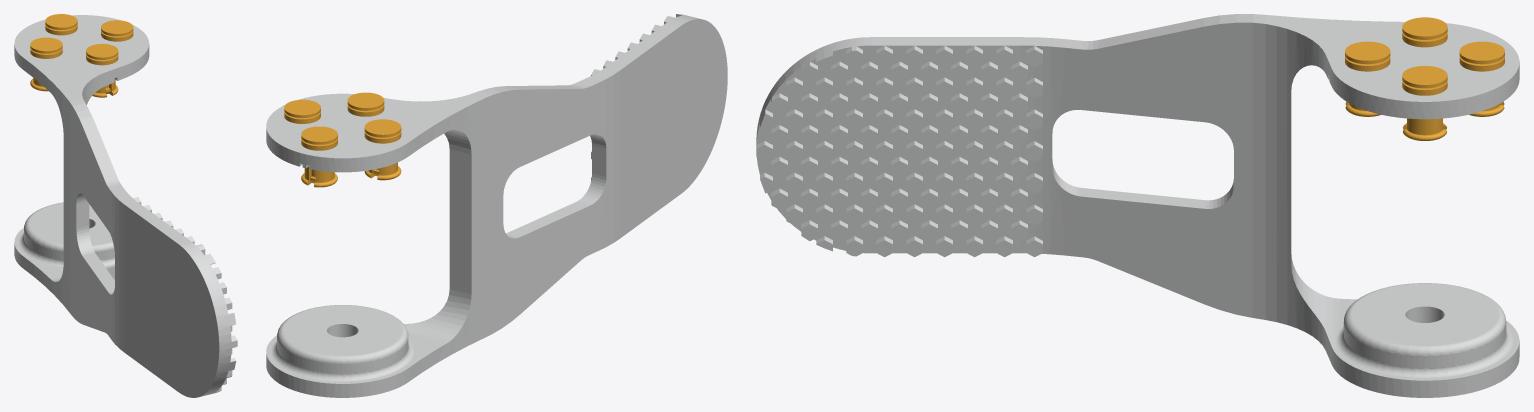
Rendered from gripper.dae.
3 views of the same model, side by side, from view 1: azimuth 30°, elevation 25°; view 2: azimuth 150°, elevation 25°; view 3: azimuth 270°, elevation 25° (orthographic). The views are drawn at different scales.
Parts seen in each view (by area): view 1: rotative_part, insert (×4), base (×2); view 2: rotative_part, insert (×4), base (×2); view 3: rotative_part, insert (×4), base.
Part boxes in pixels (bbox=[...]): rotative_part: bbox=[14, 15, 237, 397]; insert (×4): bbox=[30, 14, 133, 93]; base (×2): bbox=[30, 48, 118, 97]; rotative_part: bbox=[266, 14, 727, 397]; insert (×4): bbox=[284, 92, 401, 183]; base (×2): bbox=[301, 131, 401, 187]; rotative_part: bbox=[756, 14, 1519, 397]; insert (×4): bbox=[1345, 17, 1504, 88]; base: bbox=[1402, 80, 1447, 140].
Size of the model in its own units: 0.027 by 0.0799 by 0.0355.
